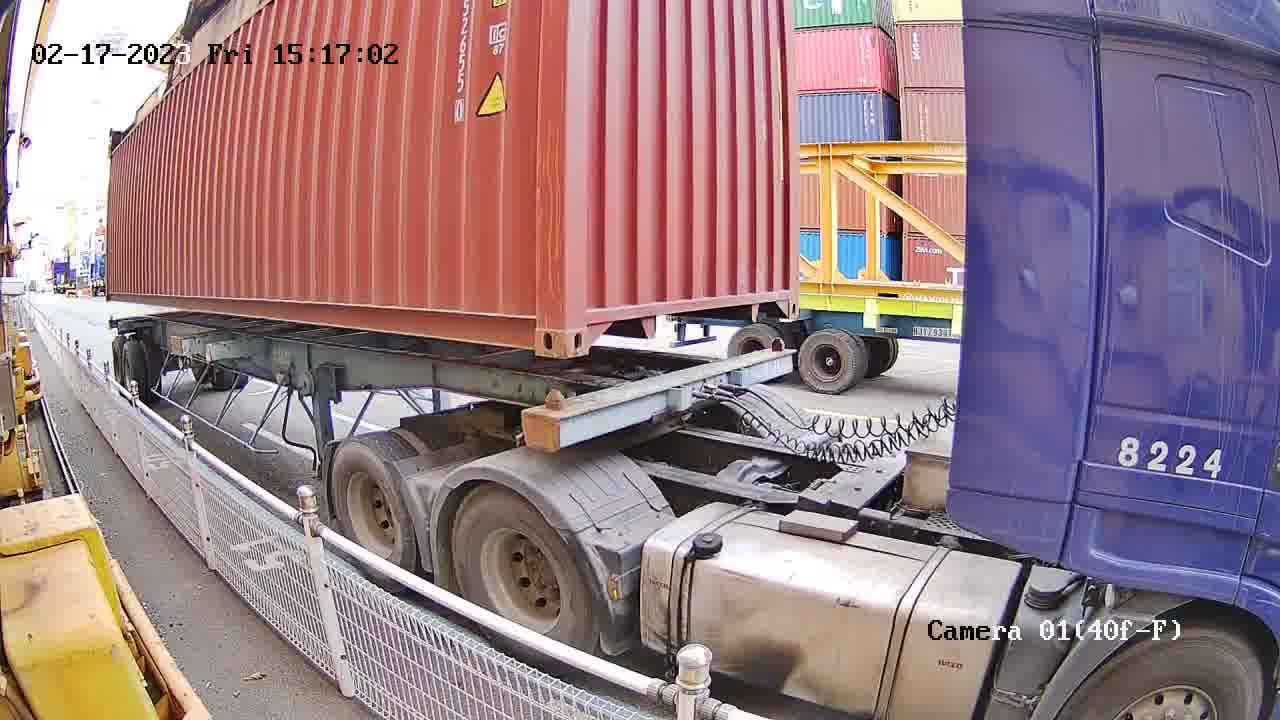Chassis: (525, 348, 793, 447)
Cone: (518, 386, 566, 448), (766, 333, 785, 355)
Hole_L: (562, 288, 618, 358)
Hole_R: (503, 290, 561, 358), (764, 274, 801, 318)
Tire: (453, 486, 596, 674), (332, 444, 412, 584)
